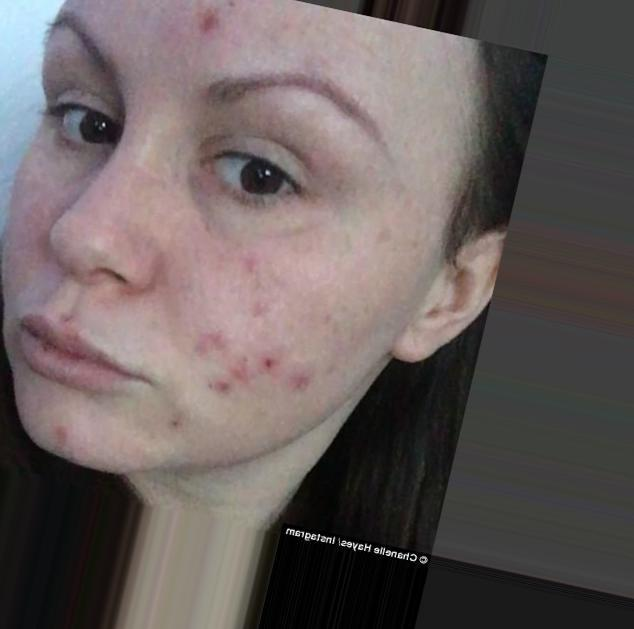Acne: (191, 317, 273, 420), (253, 325, 332, 398), (175, 3, 246, 53)
